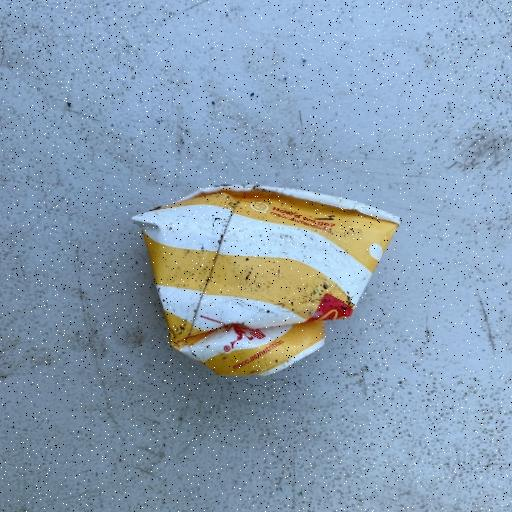Cardboard: (130, 182, 402, 380)
